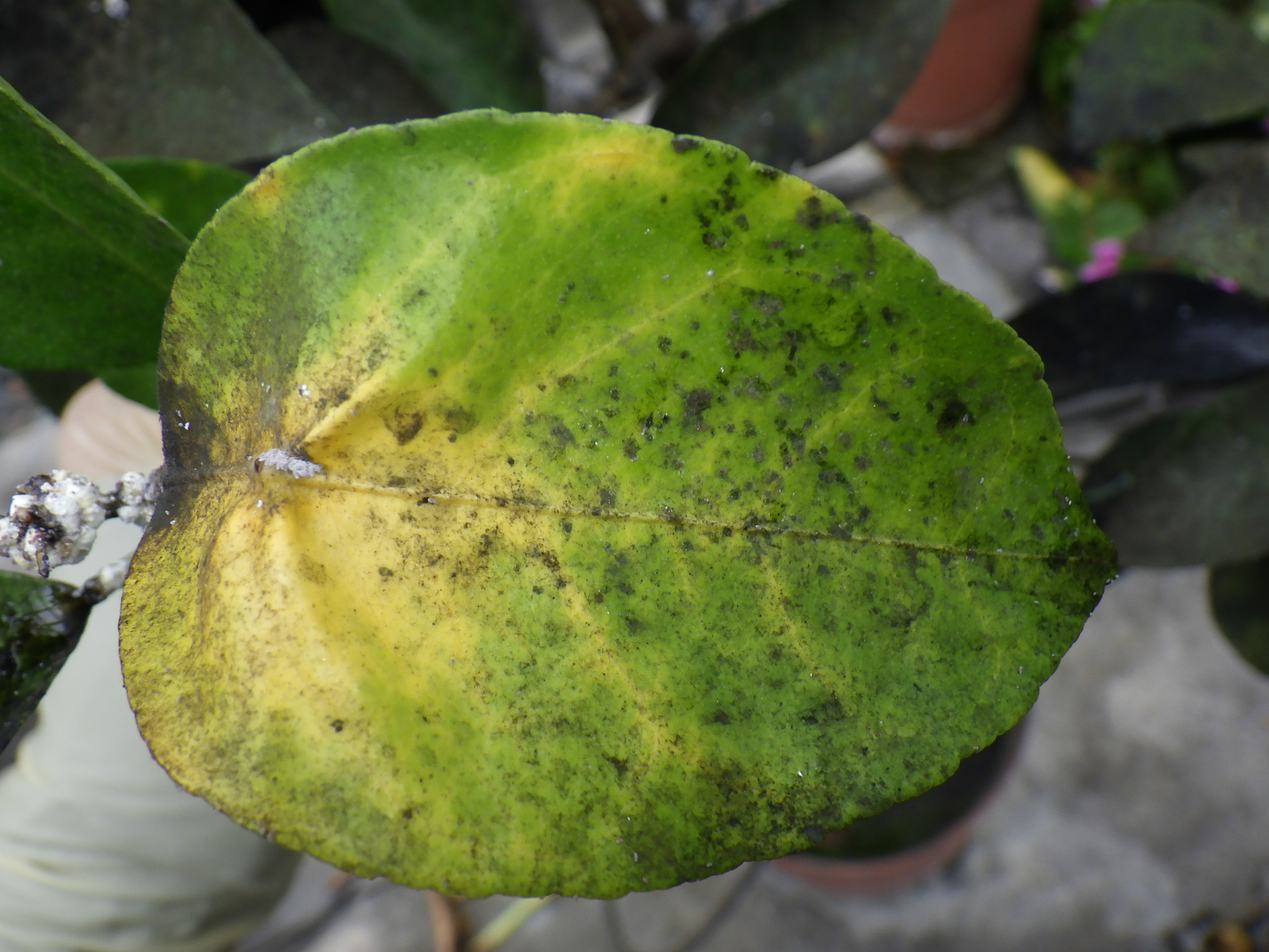Sooty_Mold: (124, 110, 1112, 896)
